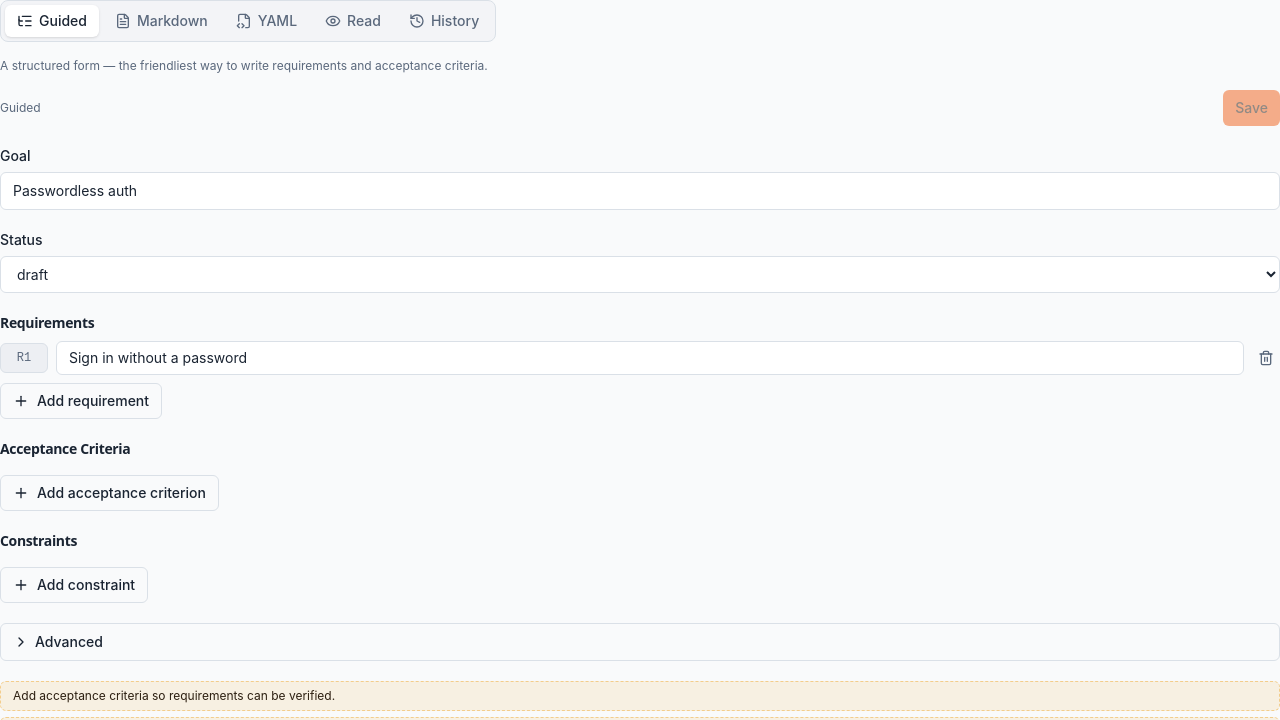
Test case: SpecStudio › switches to Markdown mode and lazily loads spec.md
Click the tab with test id "studio-mode-markdown" at (161, 21), box 103,5 -> 220,37
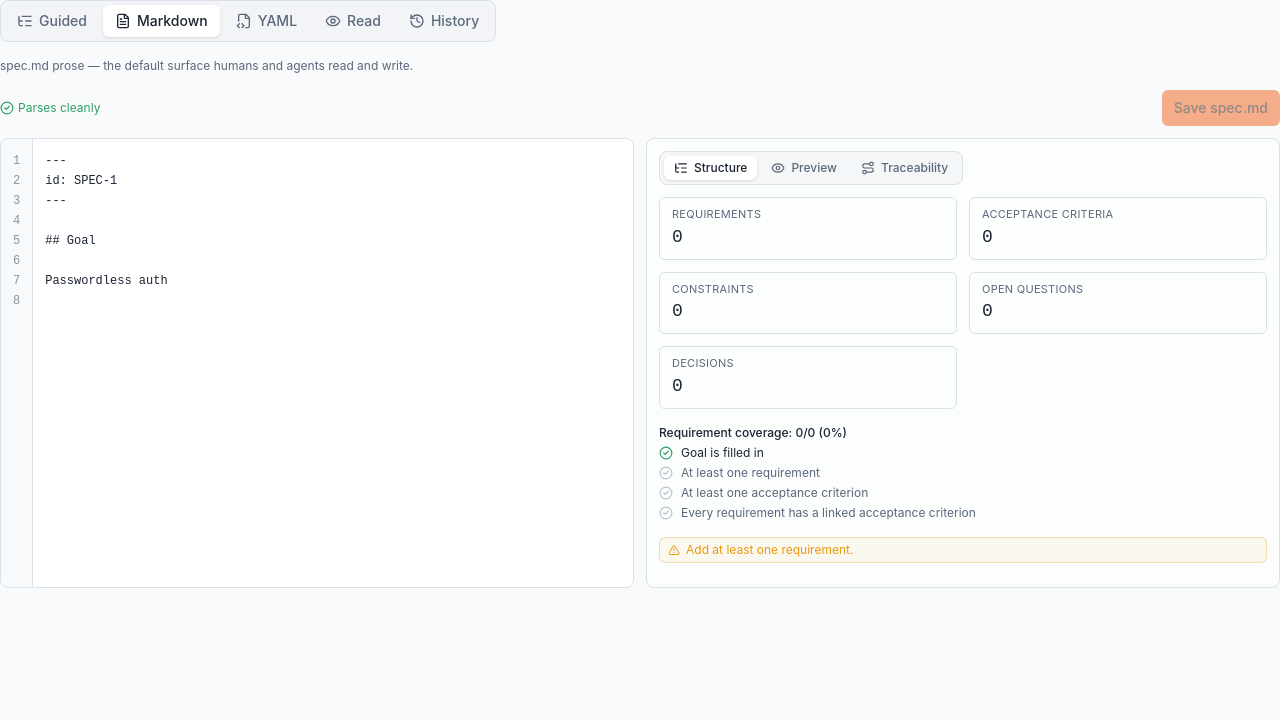
Result: the element with test id "markdown-mode" is shown
